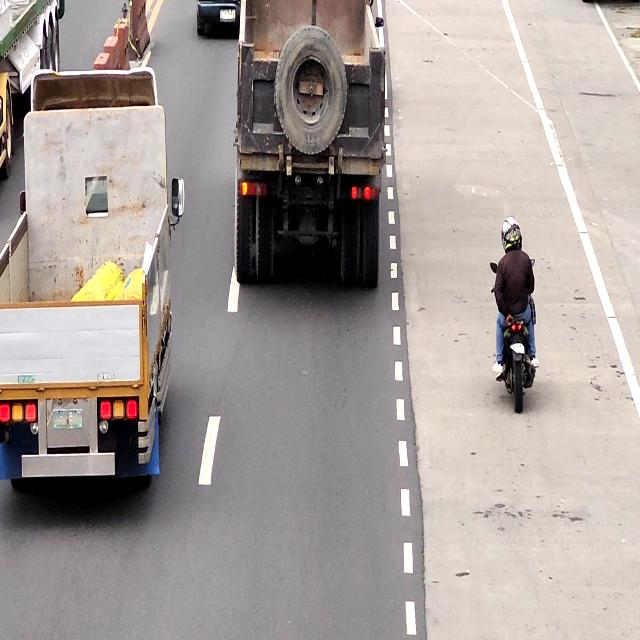License-Plate: (50, 406, 84, 434)
Motorcycle: (492, 218, 538, 424)
Truck: (0, 71, 174, 481), (232, 0, 384, 289)
